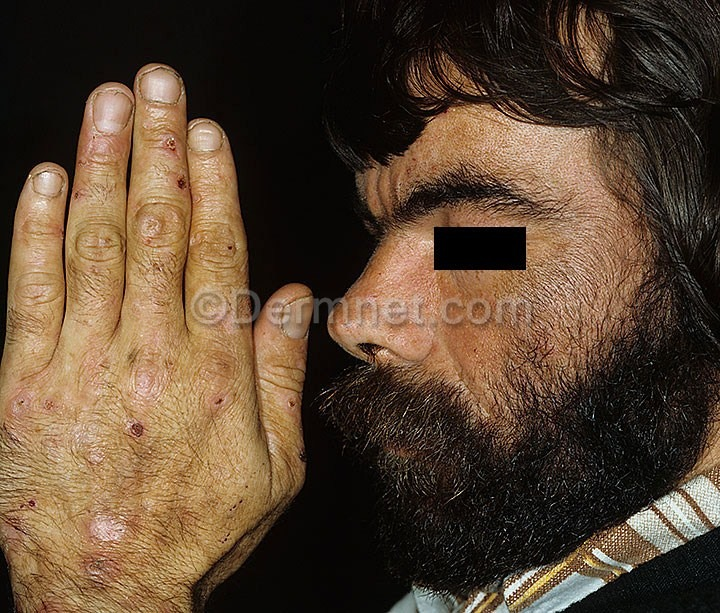Melasma: (17, 337, 207, 613), (93, 129, 232, 262)
